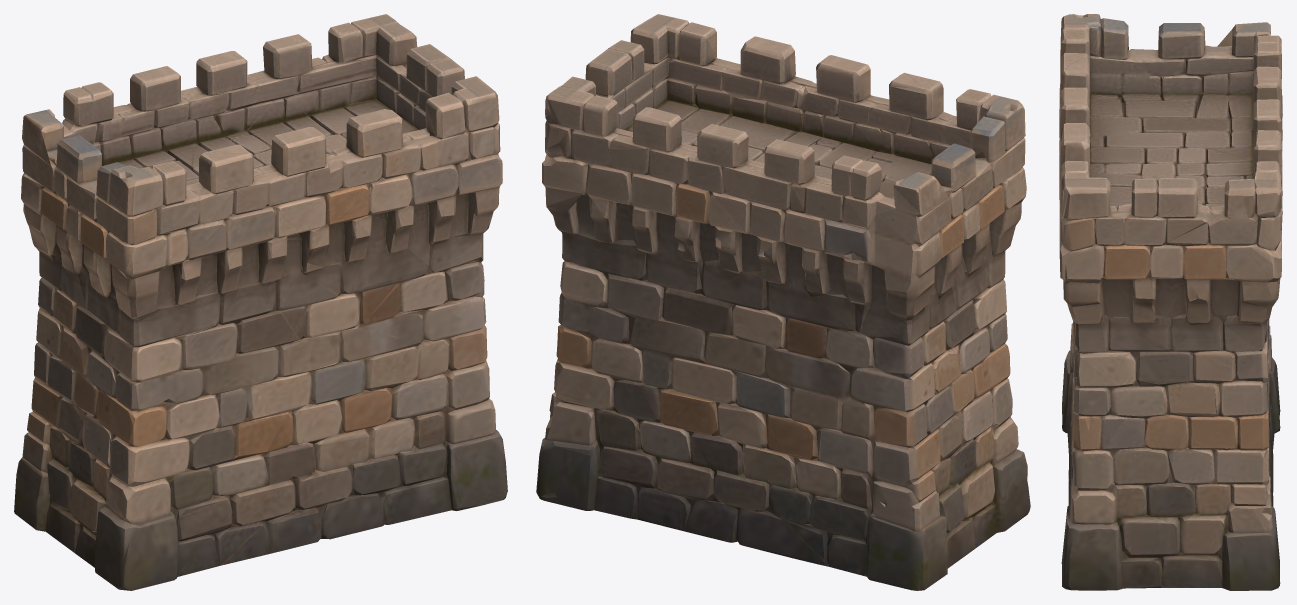
File: wallseg.glb
3 views of the same model, side by side, from view 1: azimuth 30°, elevation 25°; view 2: azimuth 150°, elevation 25°; view 3: azimuth 270°, elevation 25° (orthographic). The views are drawn at different scales.
Bounding box in the file's own units: 1.9 × 1.9 × 0.9705.
1 material, 1 textured.
